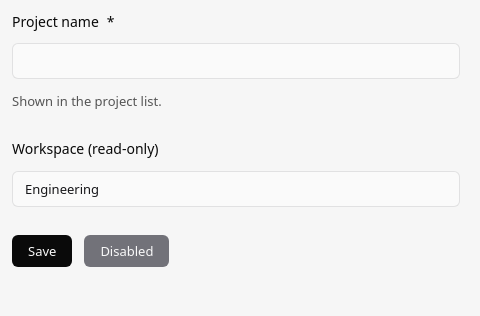
Test: associates a required field error and clears it after valid submission
The image size is (480, 316).
Click the button "Save". click: [42, 250]
box: [12,234,72,266]
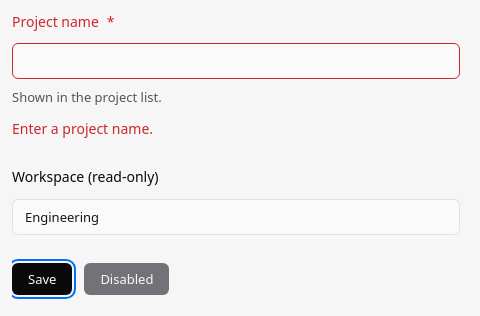
Type "Website redesign" into the field labelled "Project name *". click: [236, 61]
box: [12,43,460,79]
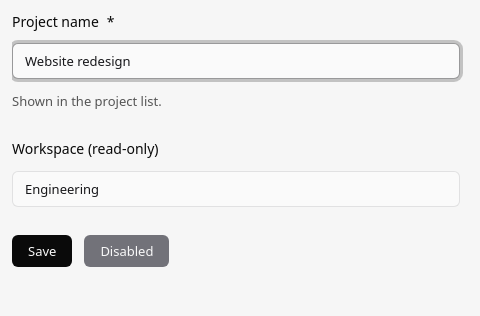
Click the button "Save". click: [42, 250]
box: [12,234,72,266]
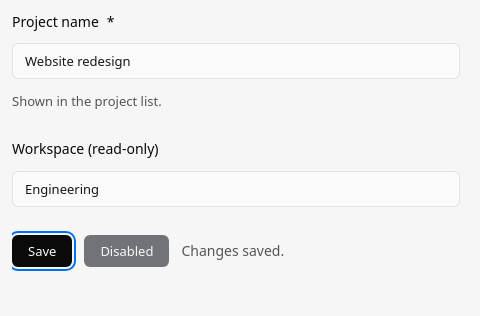
Now the message reads "Changes saved.", box [181,240,284,260]
